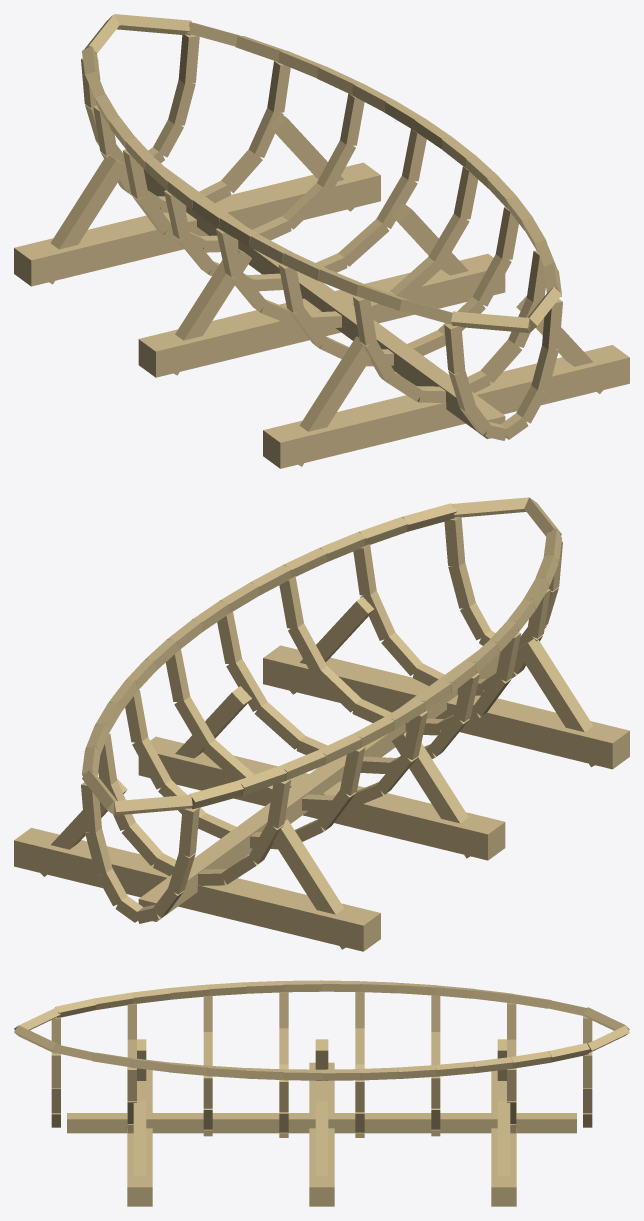
File: HullUnderConstruction.obj
3 renders of one model, top to bottom at view 1: azimuth 30°, elevation 25°; view 2: azimuth 150°, elevation 25°; view 3: azimuth 270°, elevation 25°, orthographic. The views are drawn at different scales.
Parts seen in each view (by area): view 1: trim, wood; view 2: trim, wood; view 3: trim, wood.
Part boxes in pixels (x1,y1,x2,y2): trim: [81, 14, 562, 440]; wood: [14, 114, 629, 468]; trim: [81, 497, 562, 923]; wood: [14, 596, 629, 951]; trim: [14, 980, 629, 1137]; wood: [67, 1039, 576, 1206].
Size of the model in its own units: 3.5 by 1.63 by 7.31.
